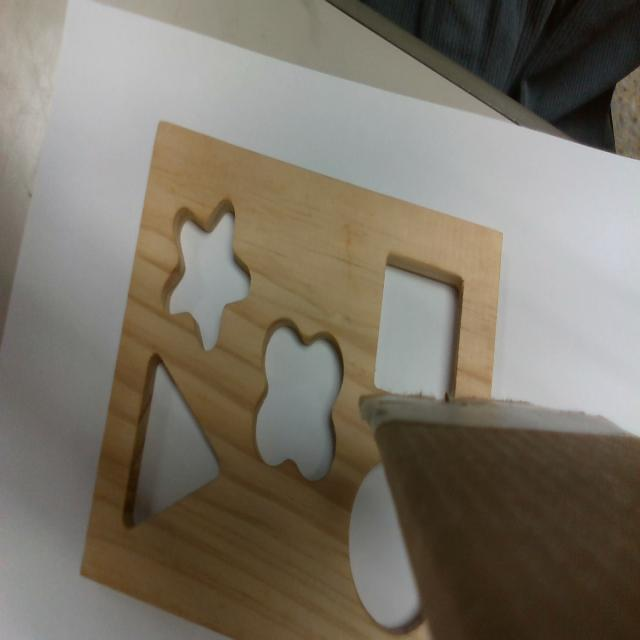circle: (350, 461, 418, 624)
flower: (255, 317, 346, 476)
square: (374, 257, 464, 398)
star: (162, 195, 250, 348)
triangle: (123, 348, 220, 527)
